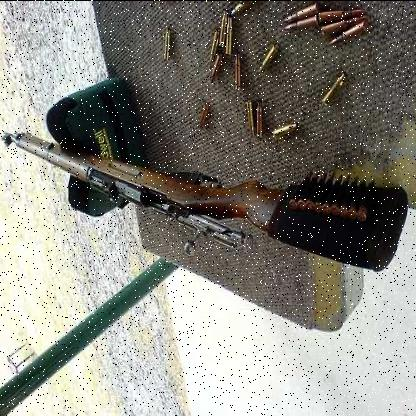rifle: (0, 98, 411, 269)
